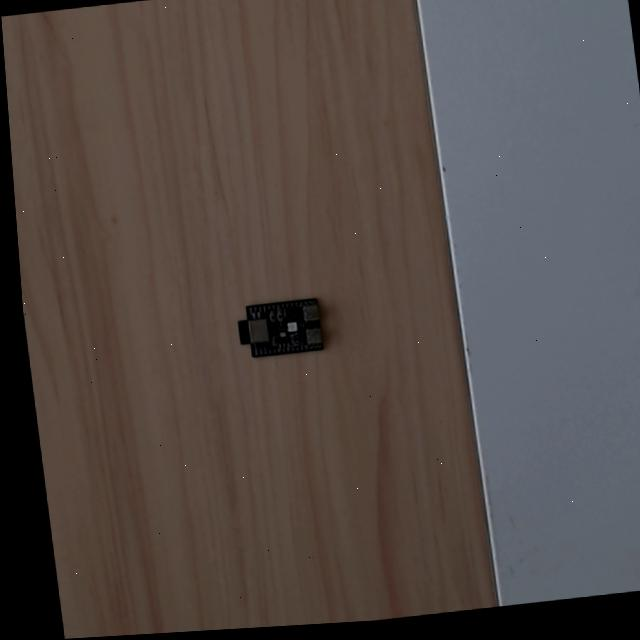ESP32C3-DevKit: (232, 296, 324, 362)
